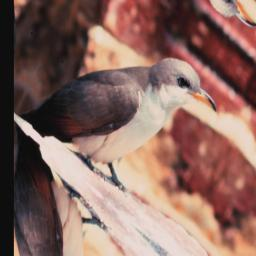Cuckoo: (18, 0, 224, 242)
